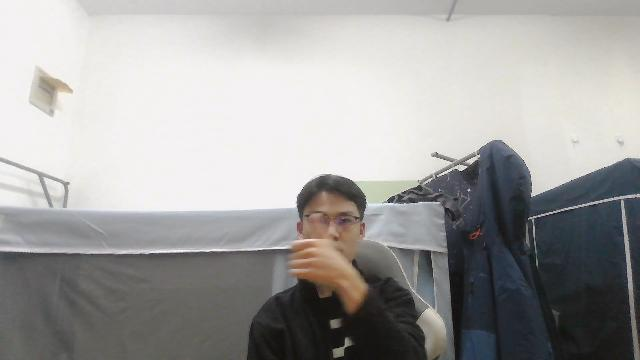good: (289, 214, 361, 299)
